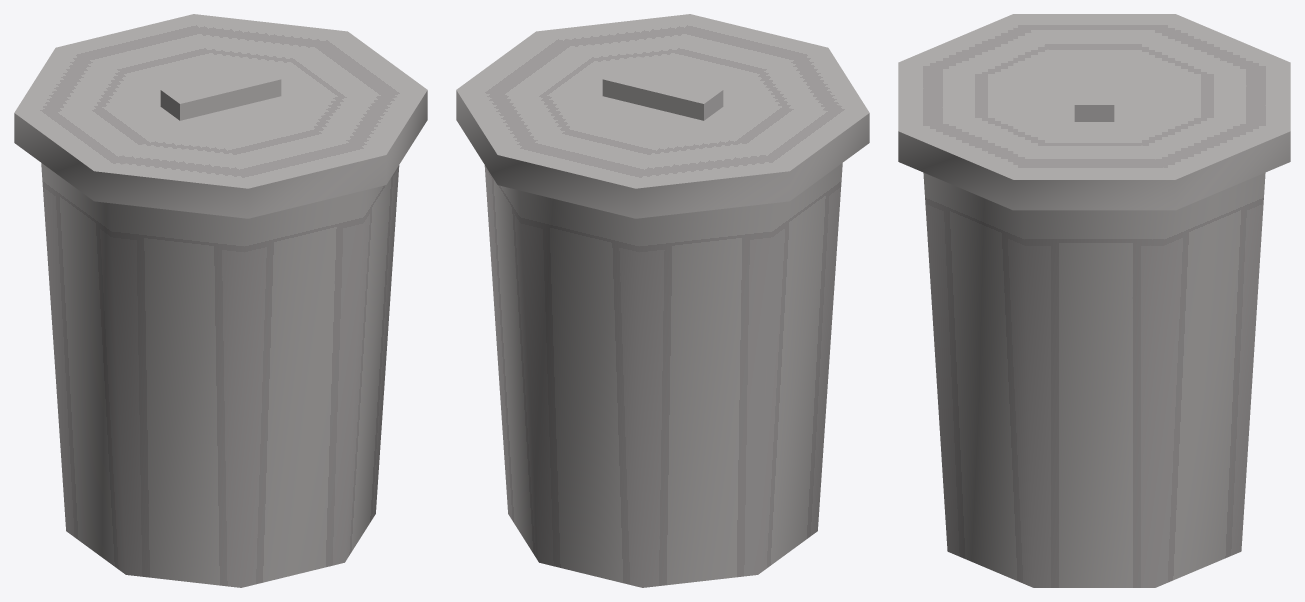
Rendered from 00b7_Metal_Bucket.glb.
3 renders of one model, left to right at view 1: azimuth 30°, elevation 25°; view 2: azimuth 150°, elevation 25°; view 3: azimuth 270°, elevation 25°, orthographic.
Parts seen in each view (by area): view 1: part_0; view 2: part_0; view 3: part_0.
Boxes of the visible parts, x1=… form: part_0: x1=14, y1=14, x2=427, y2=587; part_0: x1=456, y1=14, x2=869, y2=587; part_0: x1=898, y1=14, x2=1290, y2=587.
Bounding box in the file's own units: 0.4933 × 0.6187 × 0.4933.
1 material, 1 textured.
